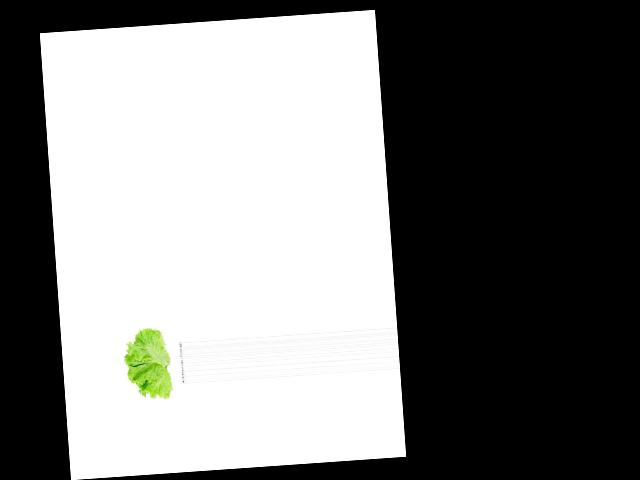lettuce: (121, 324, 182, 402)
